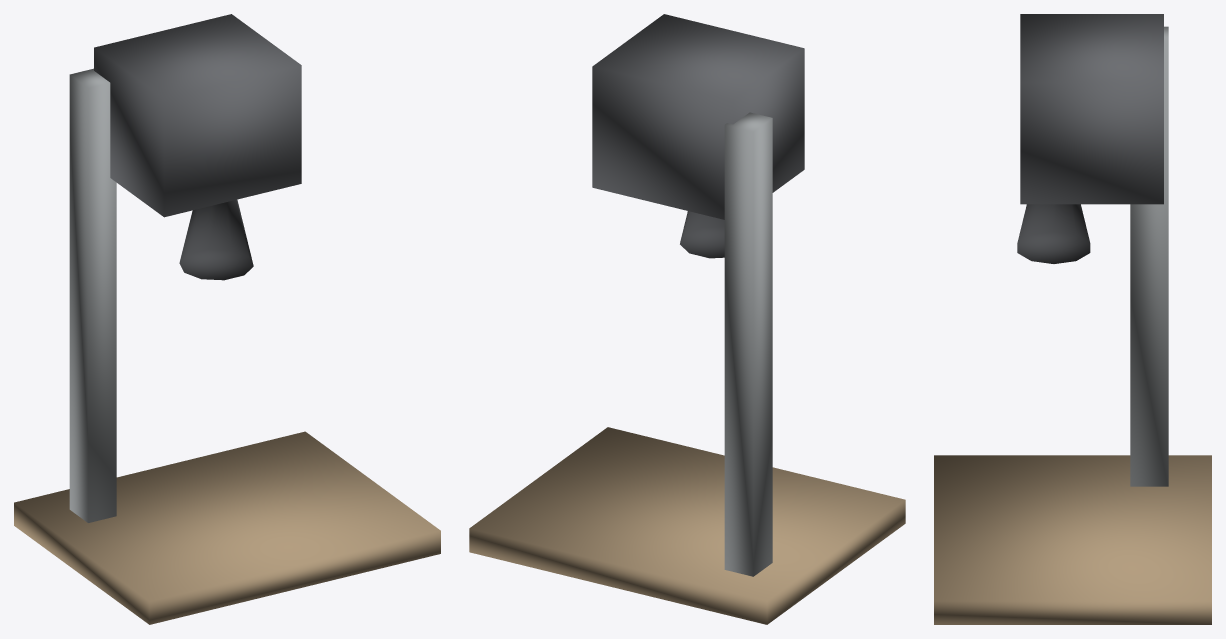
Rendered from photo_enlarger.glb.
3 views of the same model, side by side, from view 1: azimuth 30°, elevation 25°; view 2: azimuth 150°, elevation 25°; view 3: azimuth 270°, elevation 25° (orthographic). The views are drawn at different scales.
Visible parts, largest first — view 1: world; view 2: world; view 3: world.
Boxes of the visible parts, bbox=[...] form: world: bbox=[14, 14, 440, 624]; world: bbox=[469, 14, 905, 624]; world: bbox=[934, 14, 1211, 624].
Bounding box in the file's own units: 0.72 × 1.14 × 0.58.
